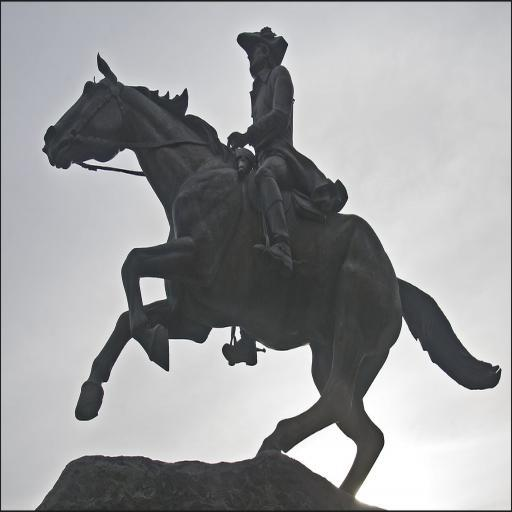Horse: (41, 48, 501, 499)
